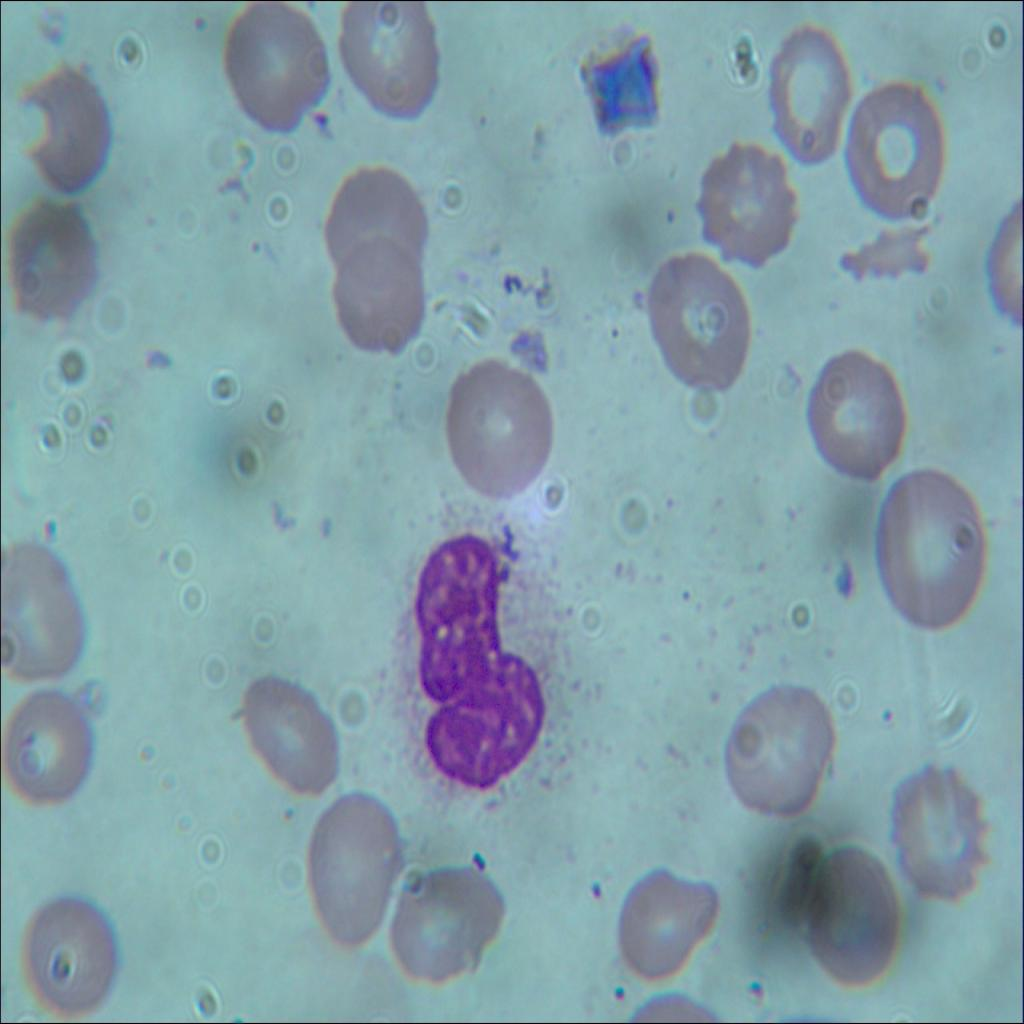Eritrosit: (436, 338, 558, 506), (878, 460, 986, 634), (302, 795, 406, 964), (646, 241, 754, 401), (719, 676, 835, 822), (838, 75, 946, 230), (796, 831, 904, 982), (888, 762, 994, 914), (236, 666, 346, 808), (337, 0, 452, 134), (611, 864, 728, 994), (388, 867, 506, 989), (221, 0, 333, 126), (754, 20, 848, 166), (806, 345, 906, 481), (23, 887, 122, 1023), (696, 138, 801, 264), (3, 195, 99, 329), (320, 161, 426, 281), (331, 232, 428, 360), (4, 685, 98, 814), (0, 548, 88, 685), (16, 65, 119, 182)
Monosit: (408, 526, 559, 799)
Platelet: (824, 544, 861, 609), (41, 508, 81, 562), (741, 975, 776, 1019), (306, 97, 340, 142), (866, 691, 899, 734), (658, 180, 681, 230), (466, 834, 494, 875), (606, 984, 632, 1021), (238, 232, 272, 257), (579, 876, 603, 911), (190, 8, 209, 38), (604, 319, 619, 344)
